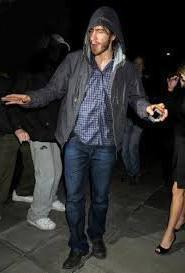Drunk: (86, 26, 109, 56)
